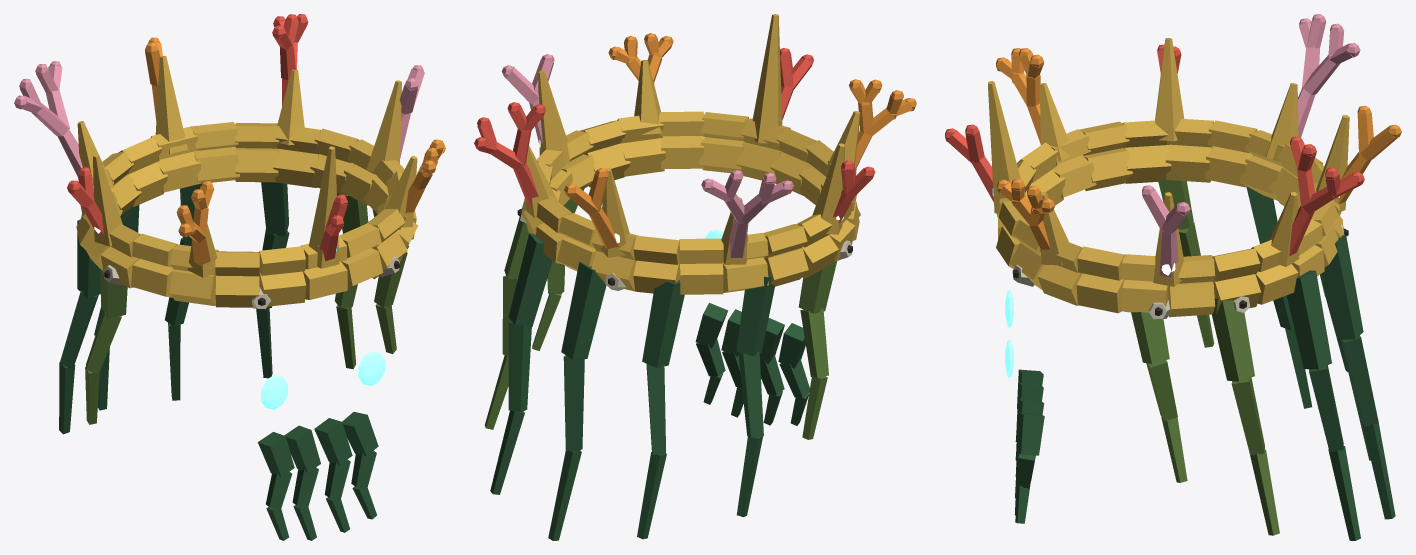
File: tideking_crown.glb
3 views of the same model, side by side, from view 1: azimuth 30°, elevation 25°; view 2: azimuth 150°, elevation 25°; view 3: azimuth 270°, elevation 25° (orthographic). The views are drawn at different scales.
Parts seen in each view (by area): view 1: tideking_crown; view 2: tideking_crown; view 3: tideking_crown.
Boxes of the visible parts, x1,y1,x2,y2 form: tideking_crown: (14, 14, 445, 540); tideking_crown: (474, 14, 916, 540); tideking_crown: (945, 14, 1401, 540).
Bounding box in the file's own units: 1.42 × 1.49 × 1.47.
